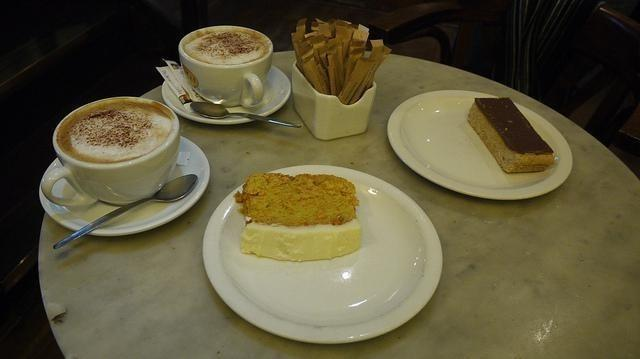cup-handle: (41, 98, 183, 210), (178, 26, 274, 108)
